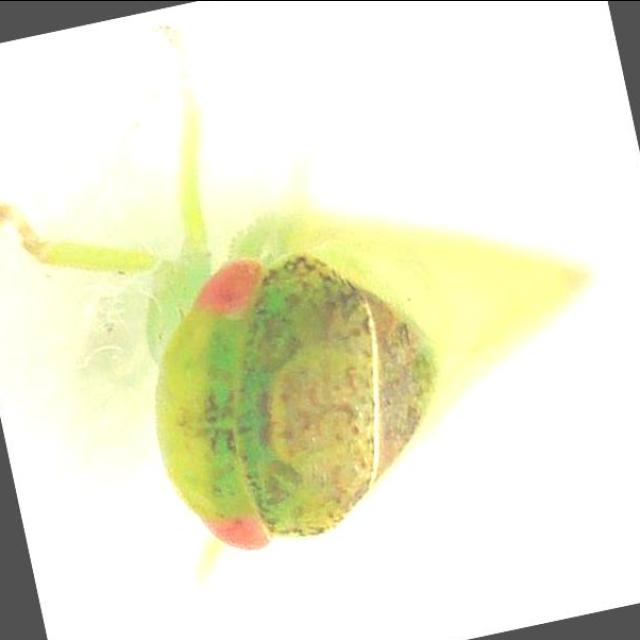green leaf hopper: (19, 96, 586, 548)
